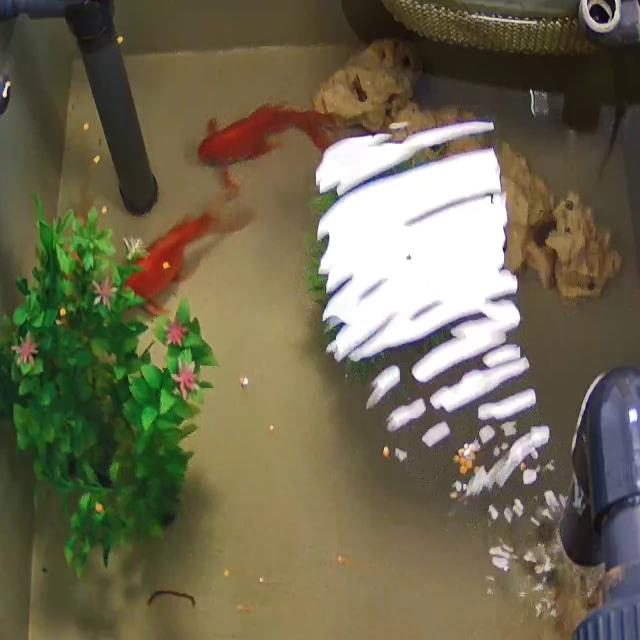fish: (119, 206, 230, 310), (204, 102, 327, 174)
